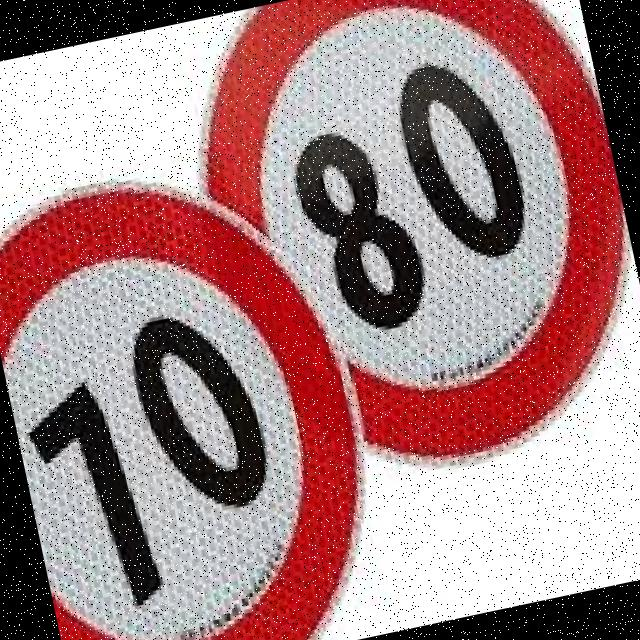speed_limit_70: (0, 135, 403, 640)
speed_limit_80: (207, 0, 640, 509)
